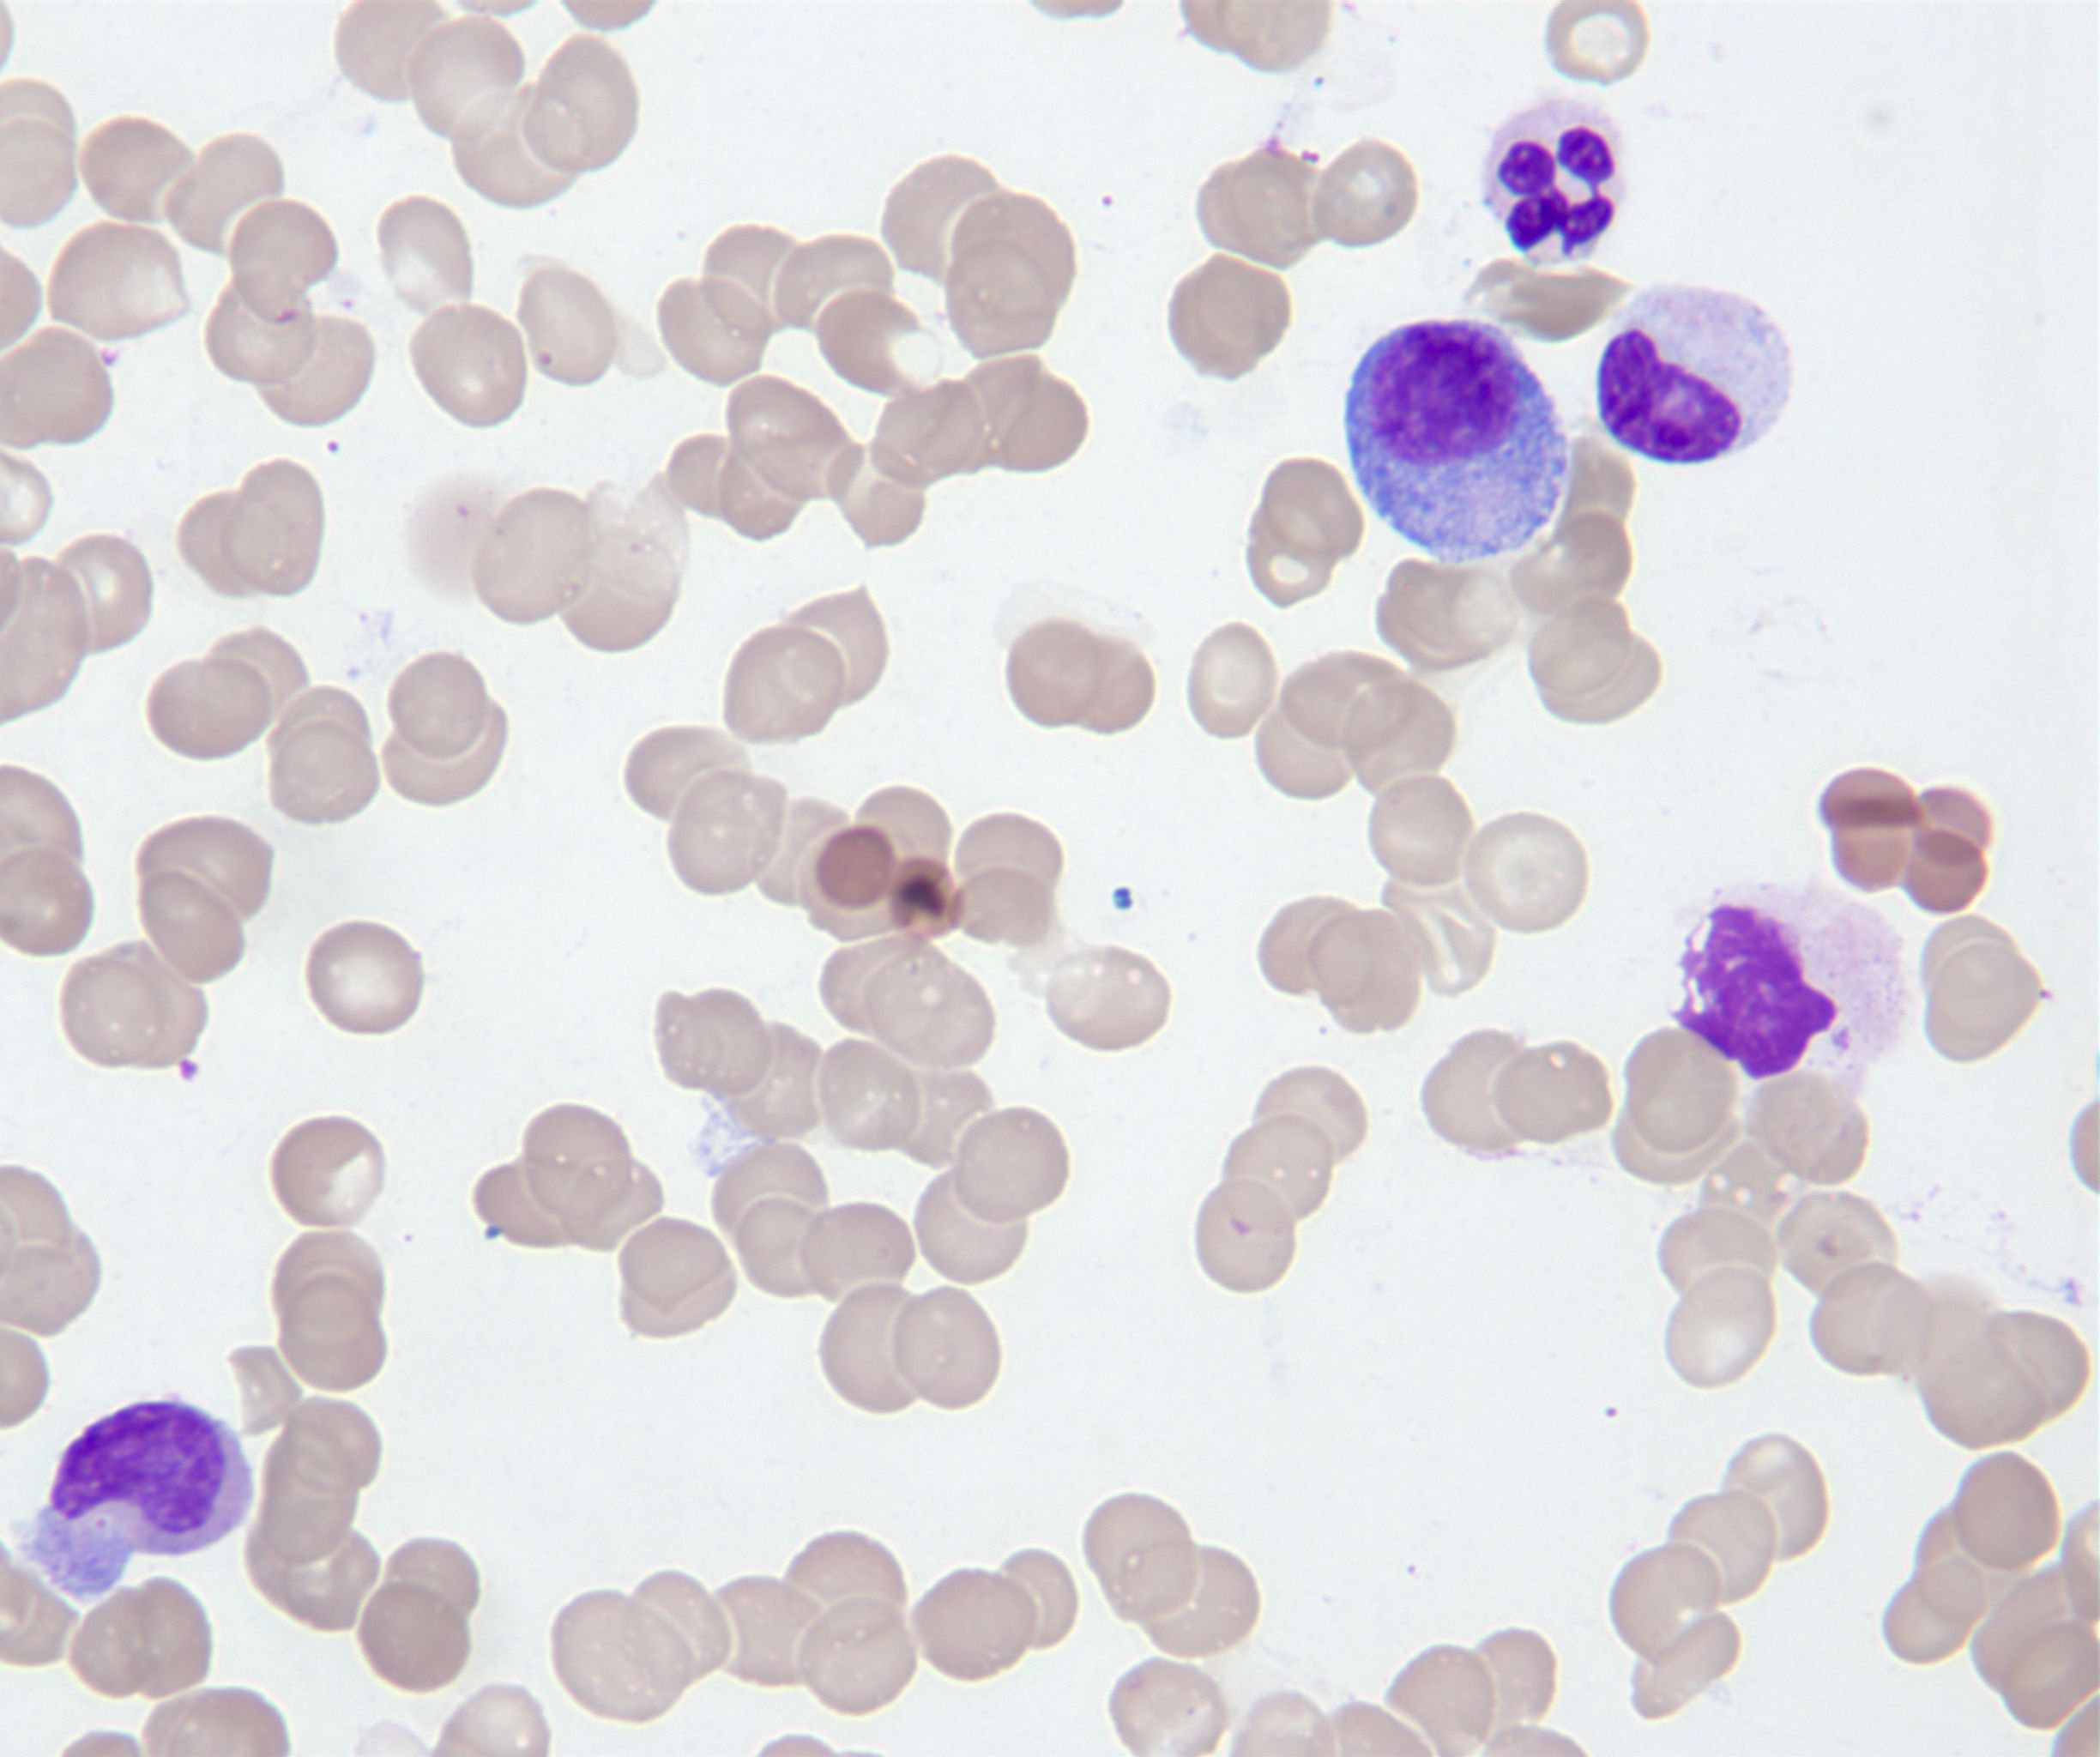3: (1345, 321, 1566, 565), (17, 1401, 253, 1602)
4: (1599, 286, 1790, 466)
6: (1483, 101, 1624, 265)
x: (1667, 881, 1908, 1090)
